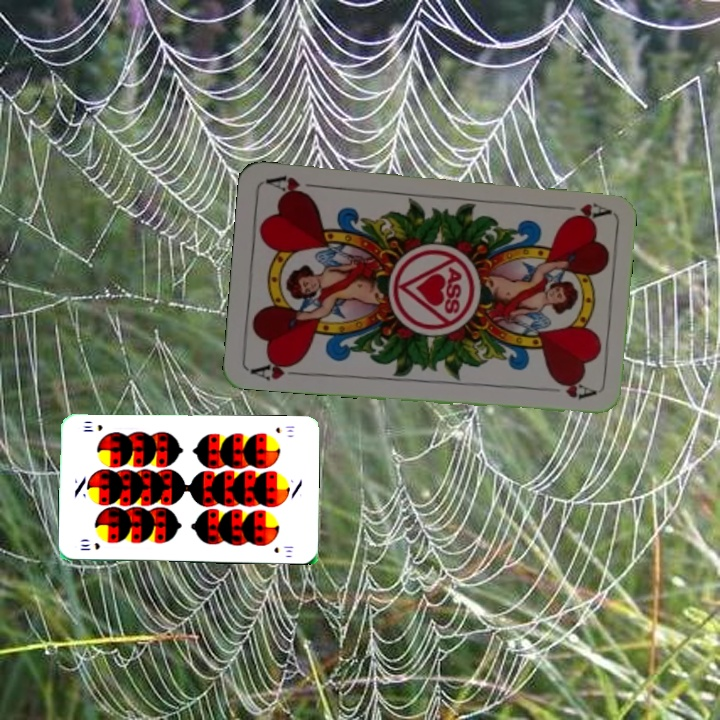HA: (247, 355, 306, 383), (552, 199, 611, 223)
S10: (76, 539, 102, 553), (272, 422, 297, 436)
